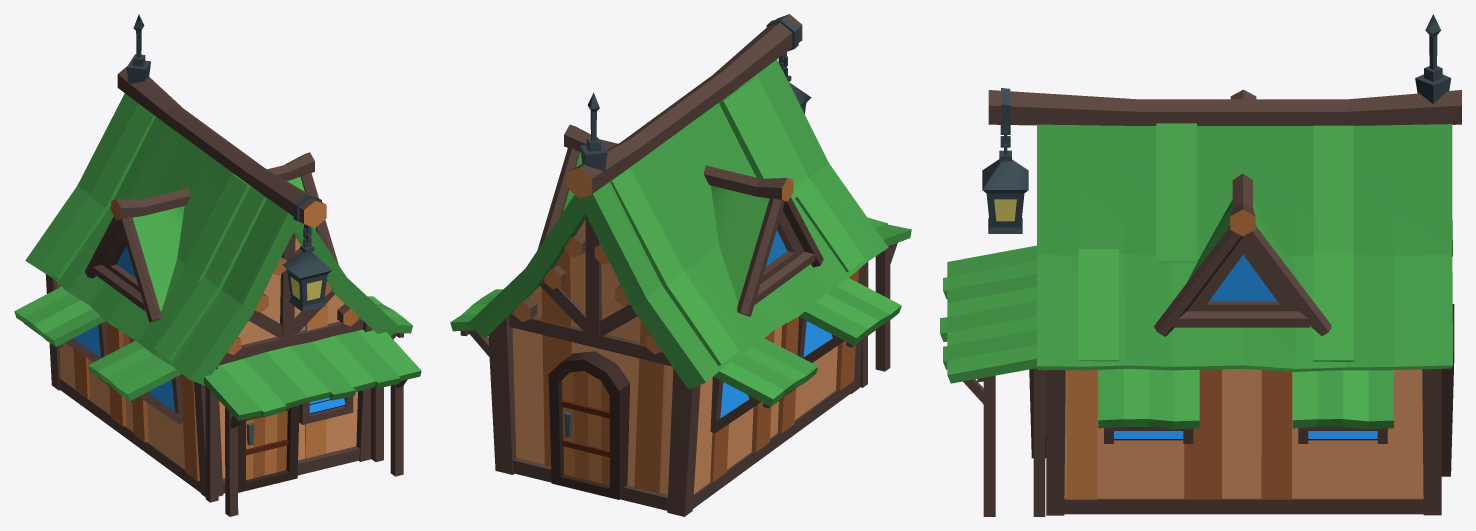
The model's file is House_2-3.fbx.
The picture shows the model from 3 angles, left to right: view 1: azimuth 30°, elevation 25°; view 2: azimuth 150°, elevation 25°; view 3: azimuth 270°, elevation 25°; orthographic projection. The views are drawn at different scales.
Visible parts, largest first — view 1: Village_BG_Bd_House04_A.001; view 2: Village_BG_Bd_House04_A.001; view 3: Village_BG_Bd_House04_A.001.
Boxes of the visible parts, x1,y1,x2,y2 form: Village_BG_Bd_House04_A.001: (14,14,421,516); Village_BG_Bd_House04_A.001: (450,14,911,516); Village_BG_Bd_House04_A.001: (940,14,1461,516).
Size of the model in its own units: 552 by 654 by 688.
